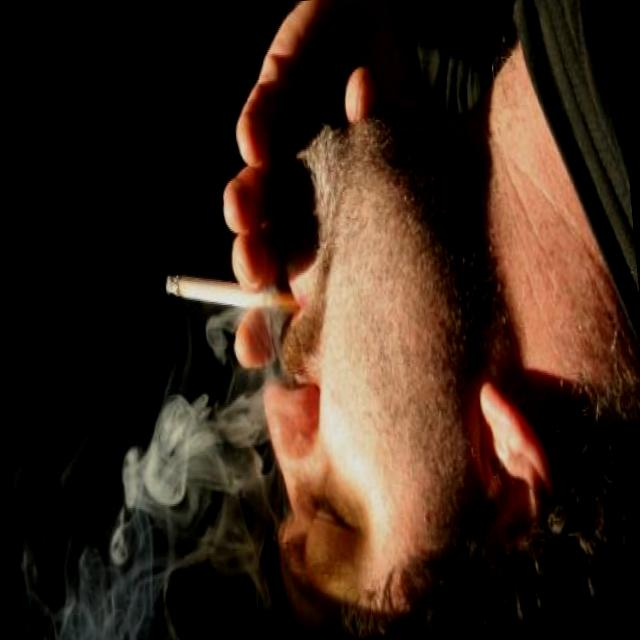cigarette: (160, 248, 301, 340)
